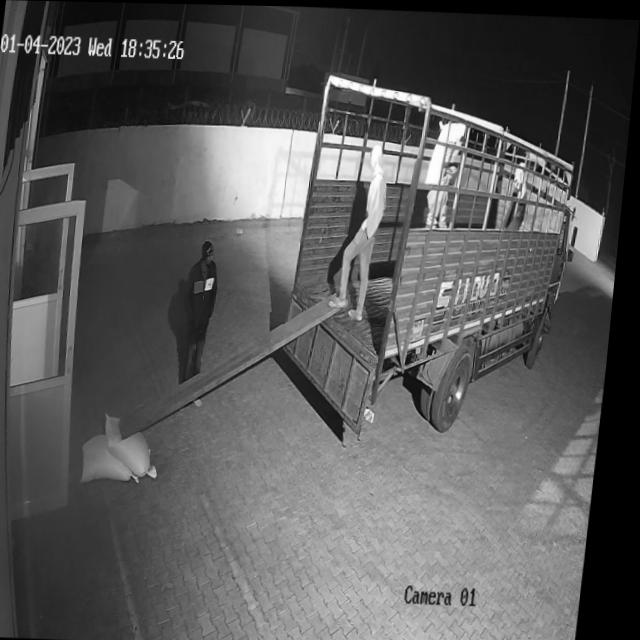sack: (106, 410, 171, 478), (86, 431, 152, 482), (426, 117, 470, 185)
